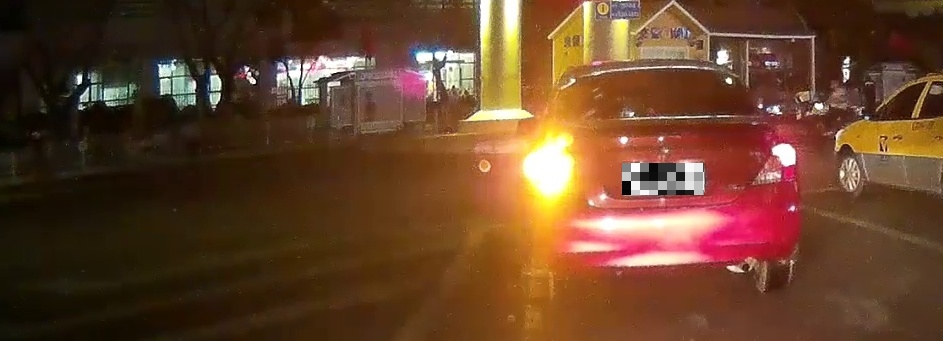L_light: (534, 155, 577, 194)
R_light: (751, 143, 796, 184)
T_light: (634, 69, 673, 77)
night-left: (529, 61, 800, 301)
plate_1: (622, 163, 704, 195)
